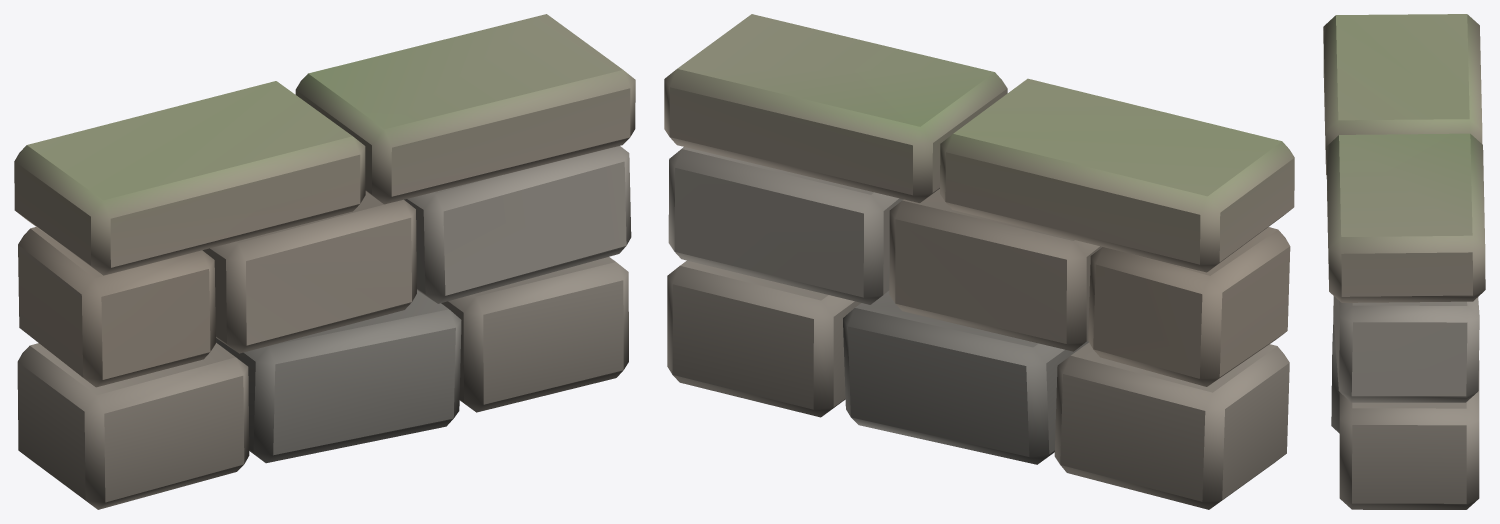
File: wall-stone.glb
3 views of the same model, side by side, from view 1: azimuth 30°, elevation 25°; view 2: azimuth 150°, elevation 25°; view 3: azimuth 270°, elevation 25° (orthographic). The views are drawn at different scales.
Visible parts, largest first — view 1: Wall stone Stone; view 2: Wall stone Stone; view 3: Wall stone Stone.
Part boxes in pixels (left/top/right/bottom): Wall stone Stone: left=14, top=14, right=635, bottom=509; Wall stone Stone: left=664, top=14, right=1294, bottom=509; Wall stone Stone: left=1323, top=14, right=1485, bottom=509.
Size of the model in its own units: 1.99 by 1.1 by 0.5803.
